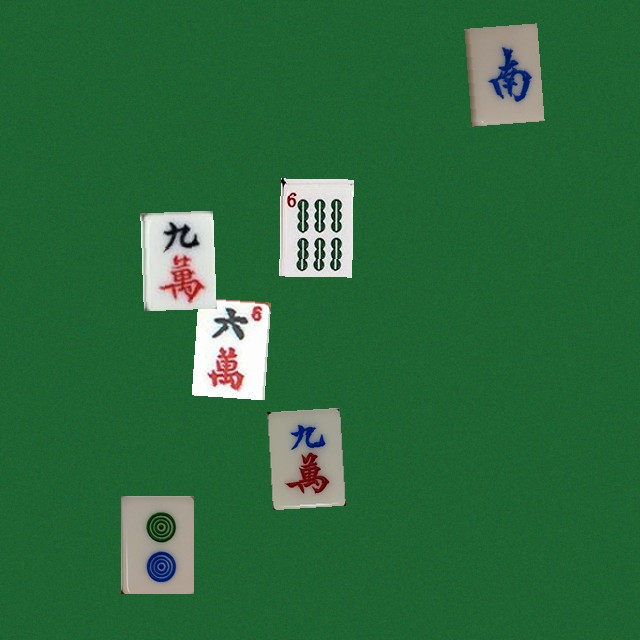tile: (191, 297, 264, 395), (267, 407, 340, 505), (120, 495, 193, 593), (140, 210, 213, 308), (464, 23, 537, 121), (279, 178, 352, 276)
